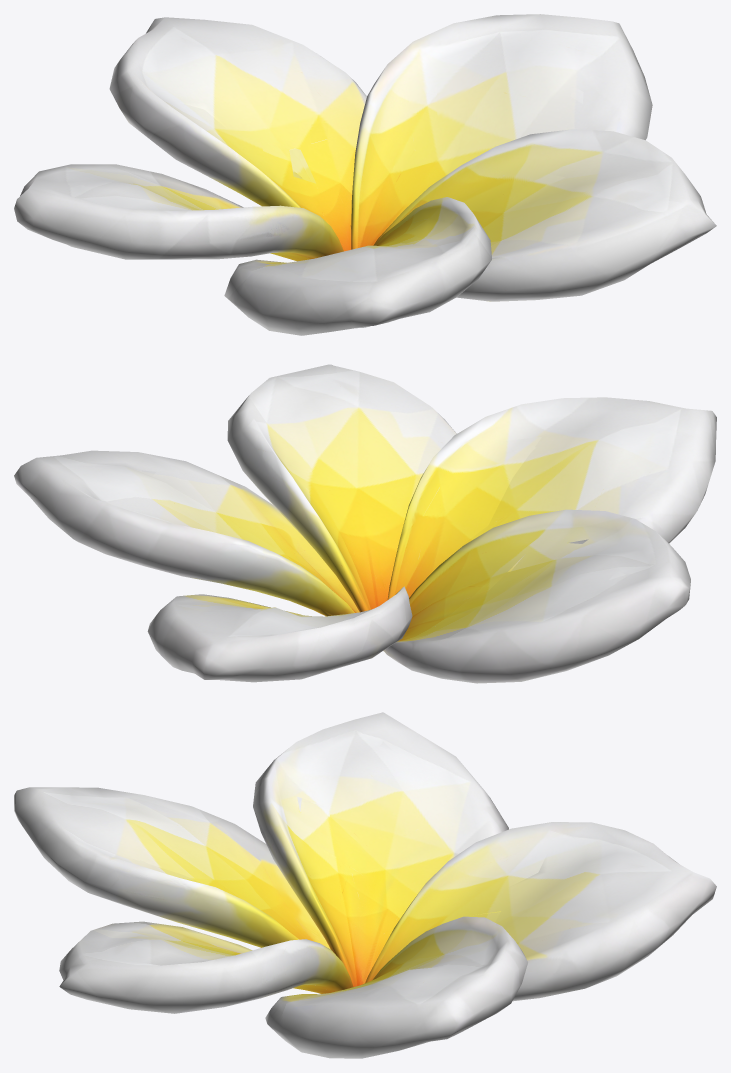
The model's file is Meshy_AI_Geometric_Plumeria_0919193059_texture.glb.
3 views of the same model, one above another, from view 1: azimuth 30°, elevation 25°; view 2: azimuth 150°, elevation 25°; view 3: azimuth 270°, elevation 25° (orthographic). The views are drawn at different scales.
Bounding box in the file's own units: 1 × 0.2378 × 1.
Materials: 1 (1 with a texture image).
